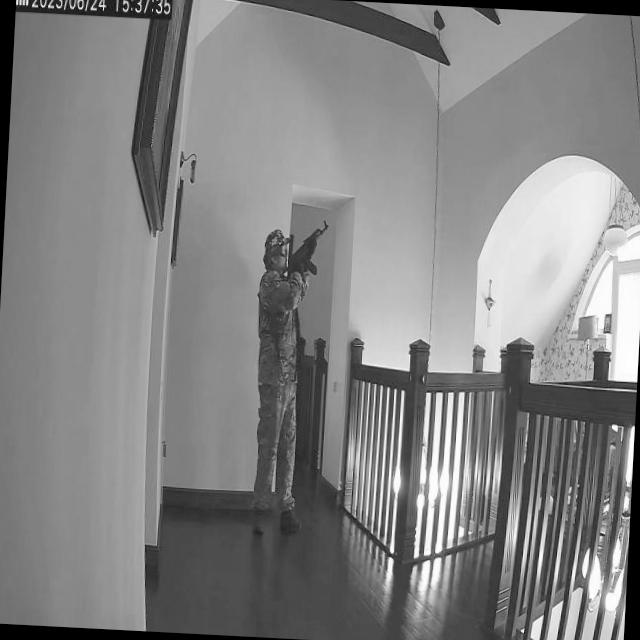gun: (288, 215, 330, 275)
person with a gun: (242, 213, 332, 542)
